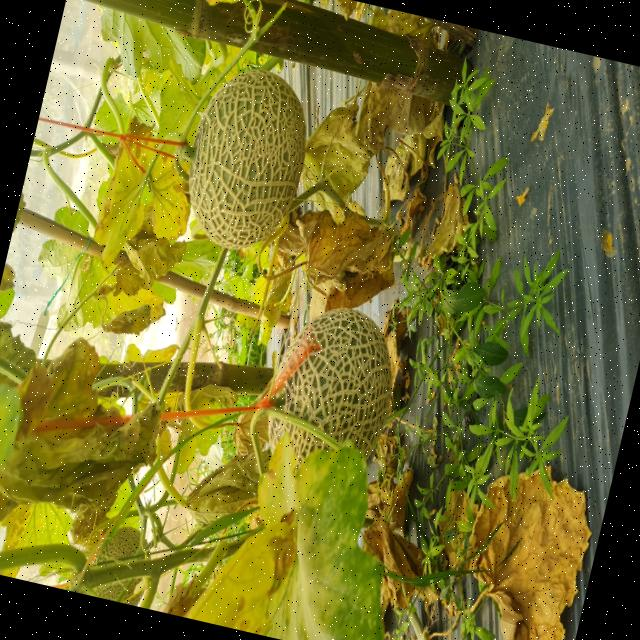melon: (188, 68, 306, 248), (281, 307, 391, 458), (268, 416, 328, 462)
